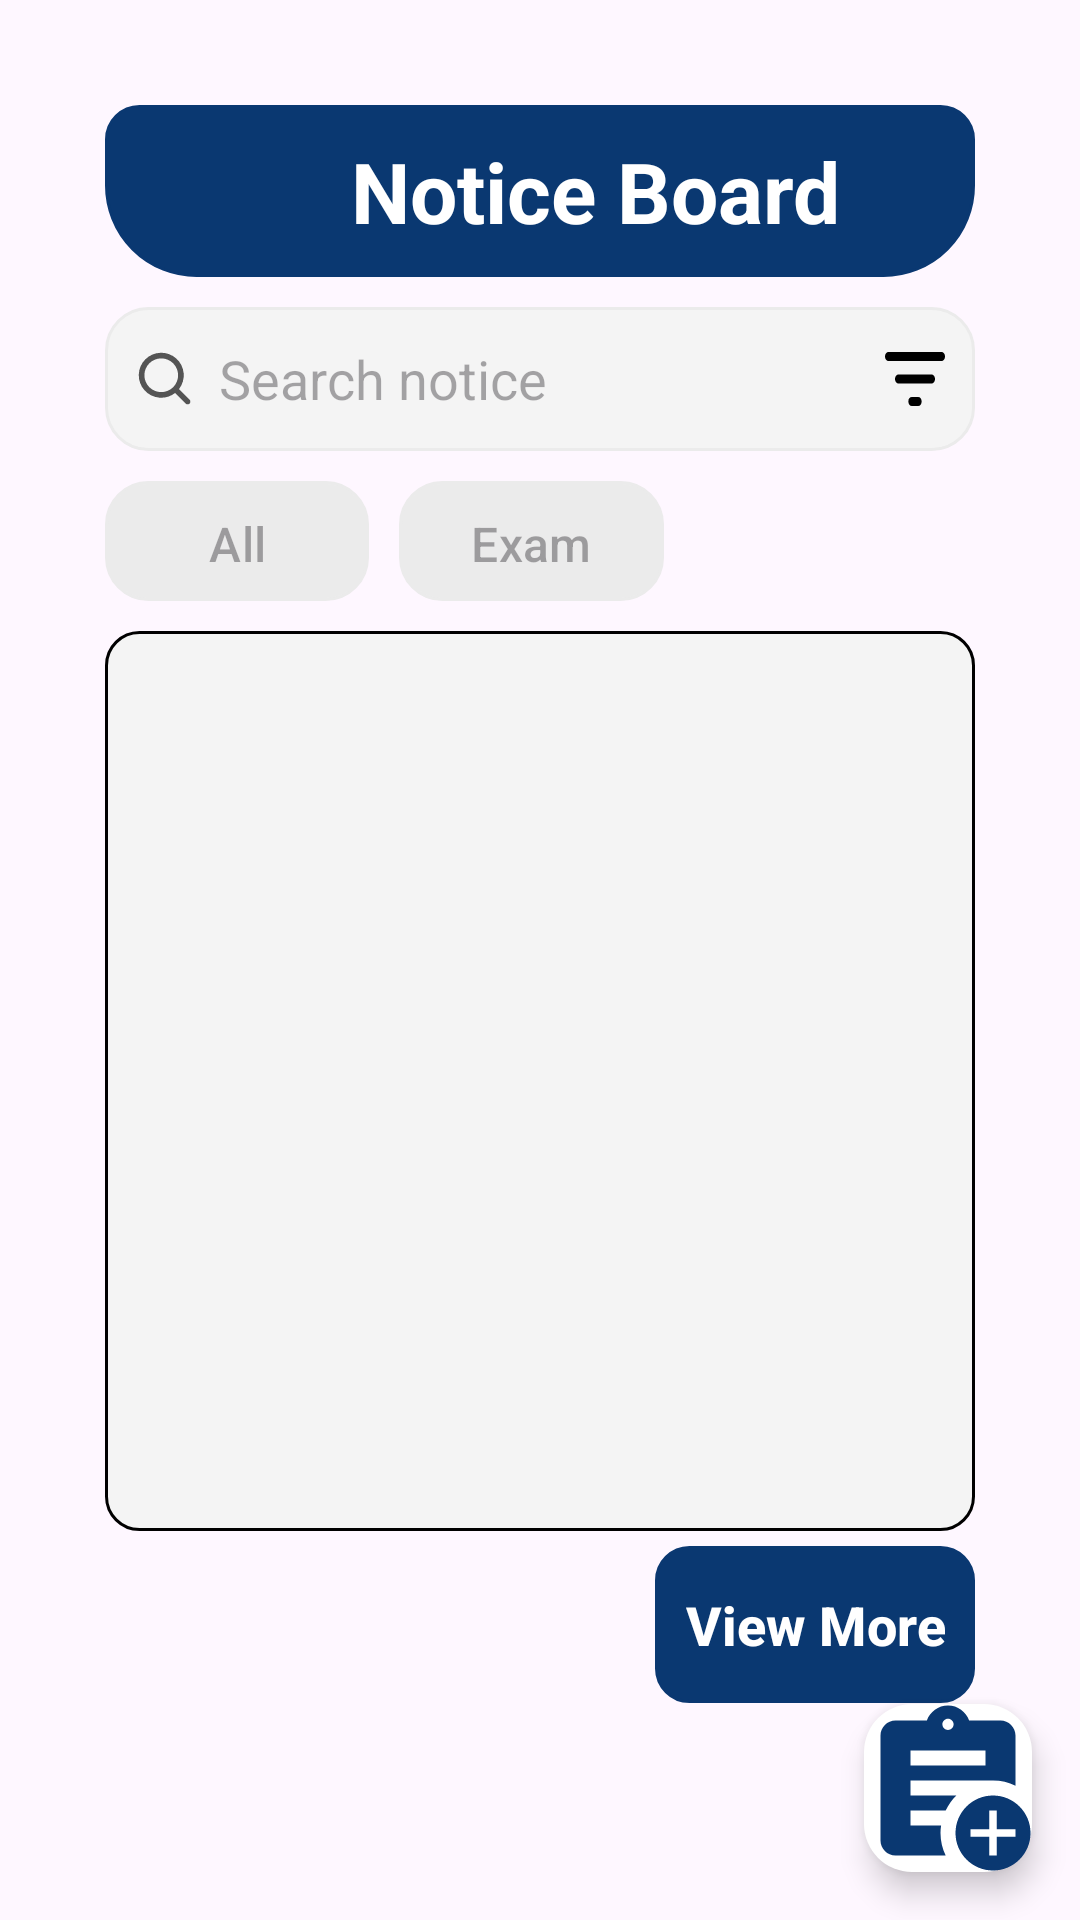

Where to tap for icons on this 1080×1920 app screen, as (x,y):
Add Notice: (948,1780)
